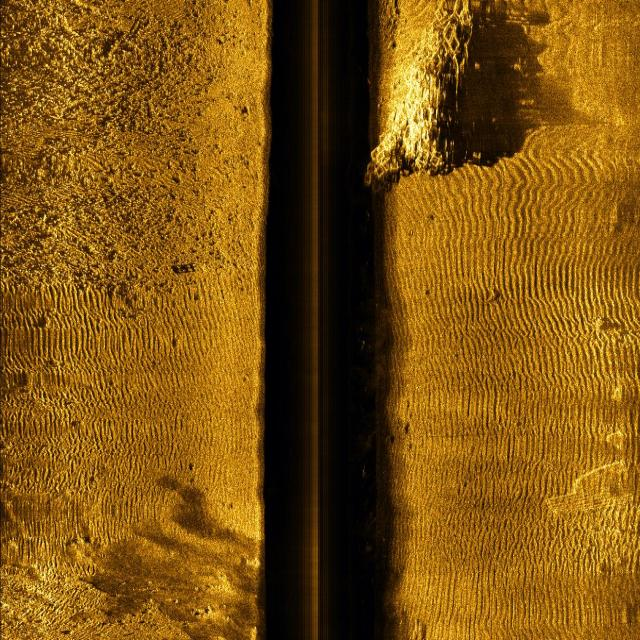artificial reef: (364, 0, 494, 202)
